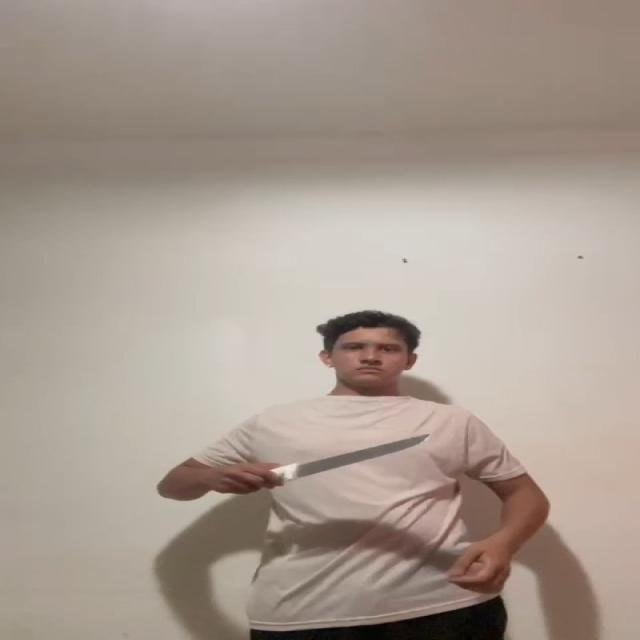knife: (289, 434, 431, 478)
